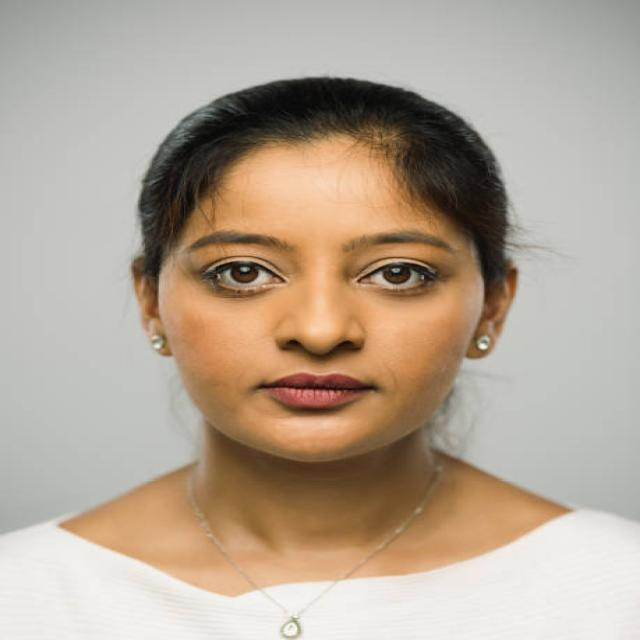low: (355, 290, 452, 314), (199, 288, 279, 305)
